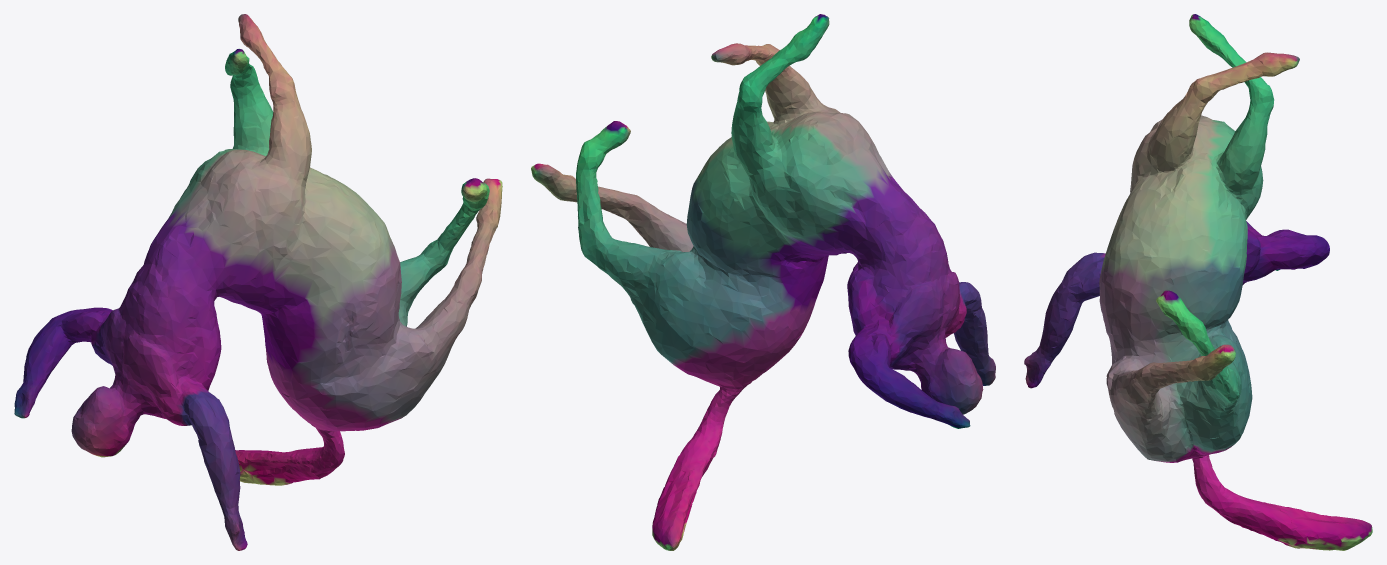
The model's file is centaur-12.off.obj.
The picture shows the model from 3 angles, left to right: view 1: azimuth 30°, elevation 25°; view 2: azimuth 150°, elevation 25°; view 3: azimuth 270°, elevation 25°; orthographic projection.
Size of the model in its own units: 1.5 by 1.56 by 0.9906.
